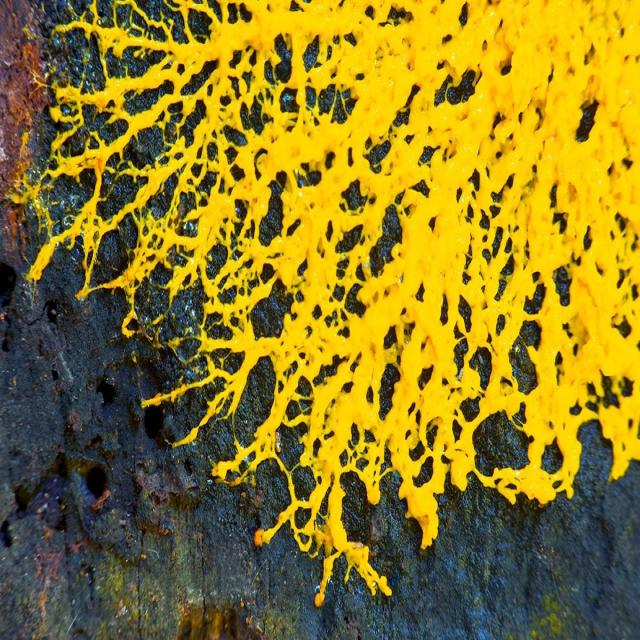Dog_vomit_slime_mold: (6, 0, 638, 611)
